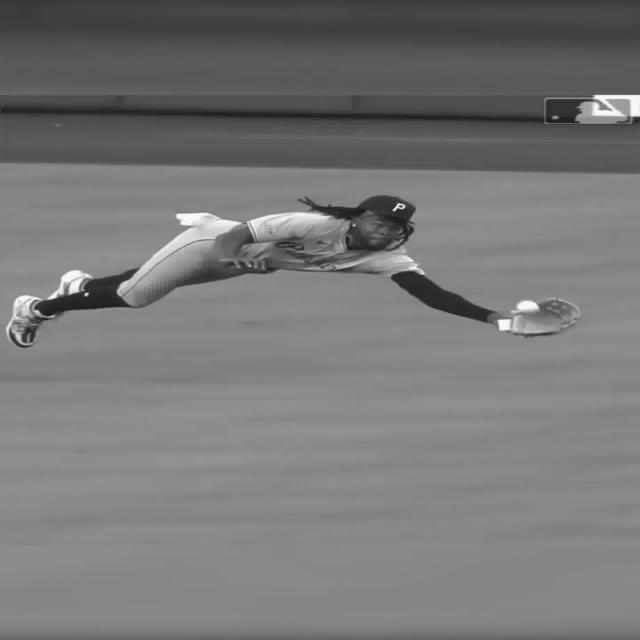baseball: (516, 301, 540, 315)
baseball_glove: (507, 298, 582, 336)
shoe: (8, 294, 46, 349), (48, 270, 90, 318)
